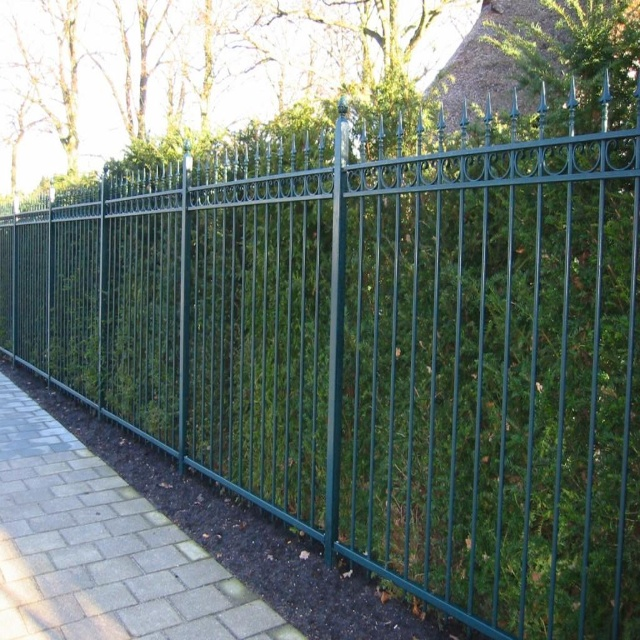obstacle: (0, 72, 608, 638)
